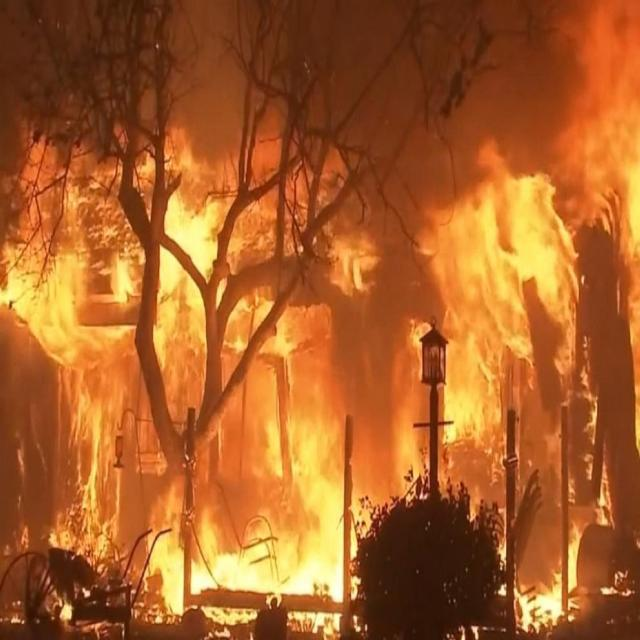Fire: (44, 190, 202, 490), (220, 234, 334, 584), (446, 198, 548, 366)
